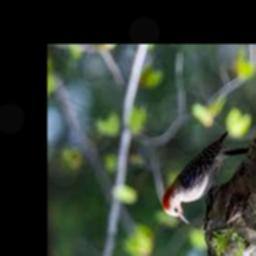Woodpecker: (163, 132, 250, 226)
